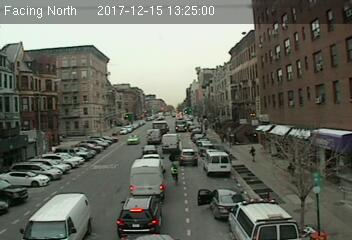bicycle: (170, 163, 180, 184)
car: (118, 196, 162, 236), (206, 187, 245, 221), (177, 149, 198, 166), (127, 134, 140, 144)
pedestrian: (248, 144, 257, 162)
police: (226, 199, 299, 240)
truck: (18, 193, 92, 240), (127, 158, 166, 195), (204, 151, 230, 175), (161, 134, 179, 153), (145, 129, 162, 143), (151, 120, 167, 131)
